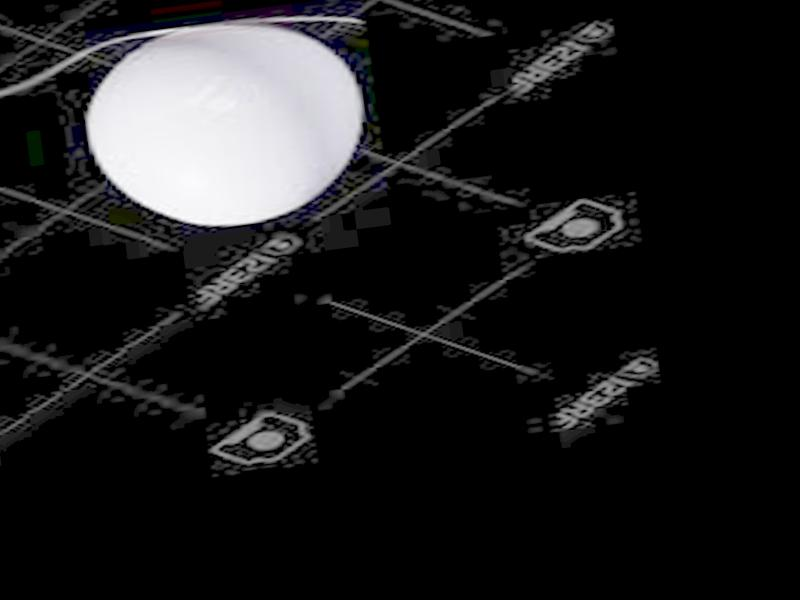Eggs: (75, 7, 375, 240)
